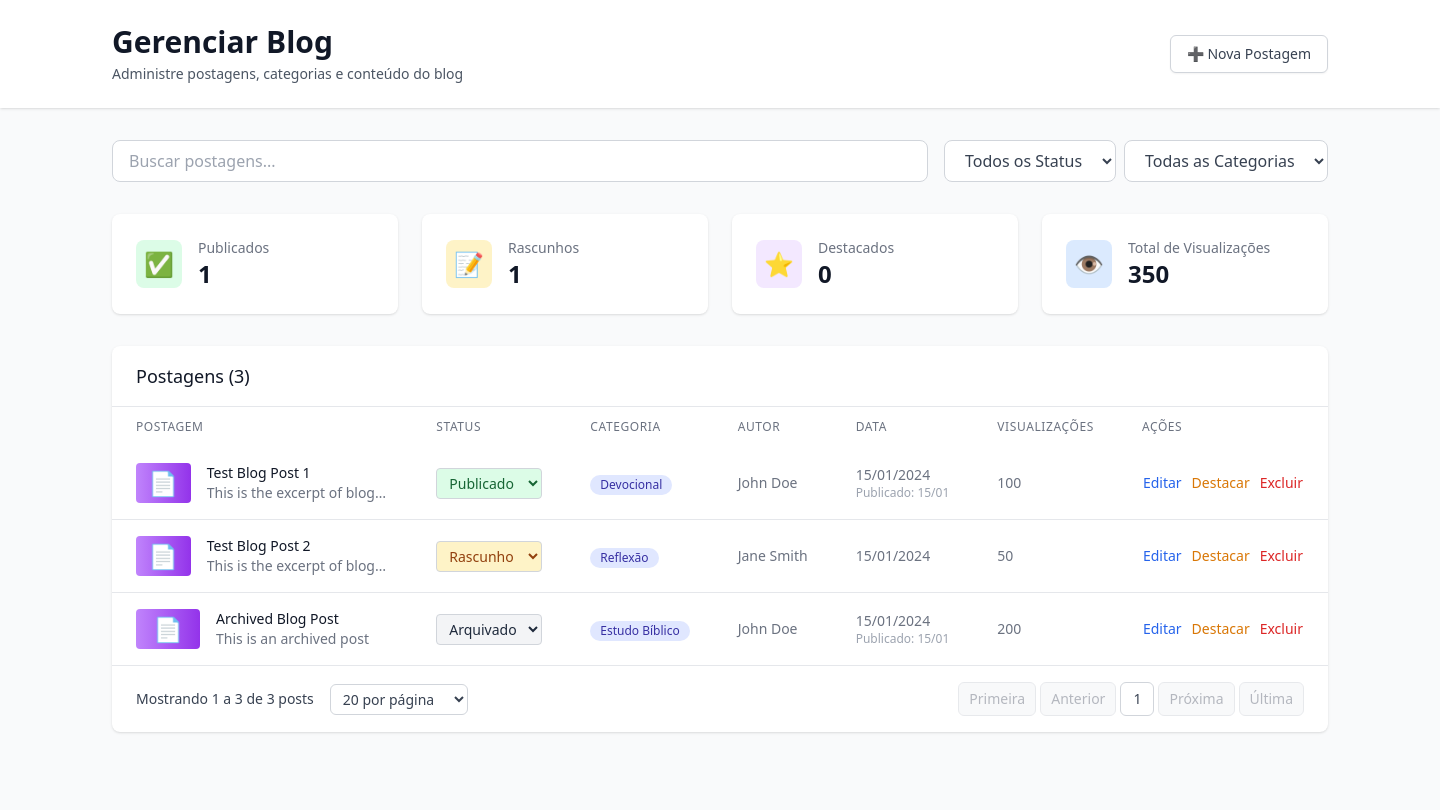
it: AdminBlogManagementPage › Filtering › should filter posts by search term
The image size is (1440, 810).
Expected: the text "Test Blog Post 1" is shown, top-left (207, 463), bottom-right (311, 483)
Type "Archived" into the field with placeholder "Buscar postagens...".
click(520, 161); type("Archived")  # box top-left (112, 140), bottom-right (928, 182)
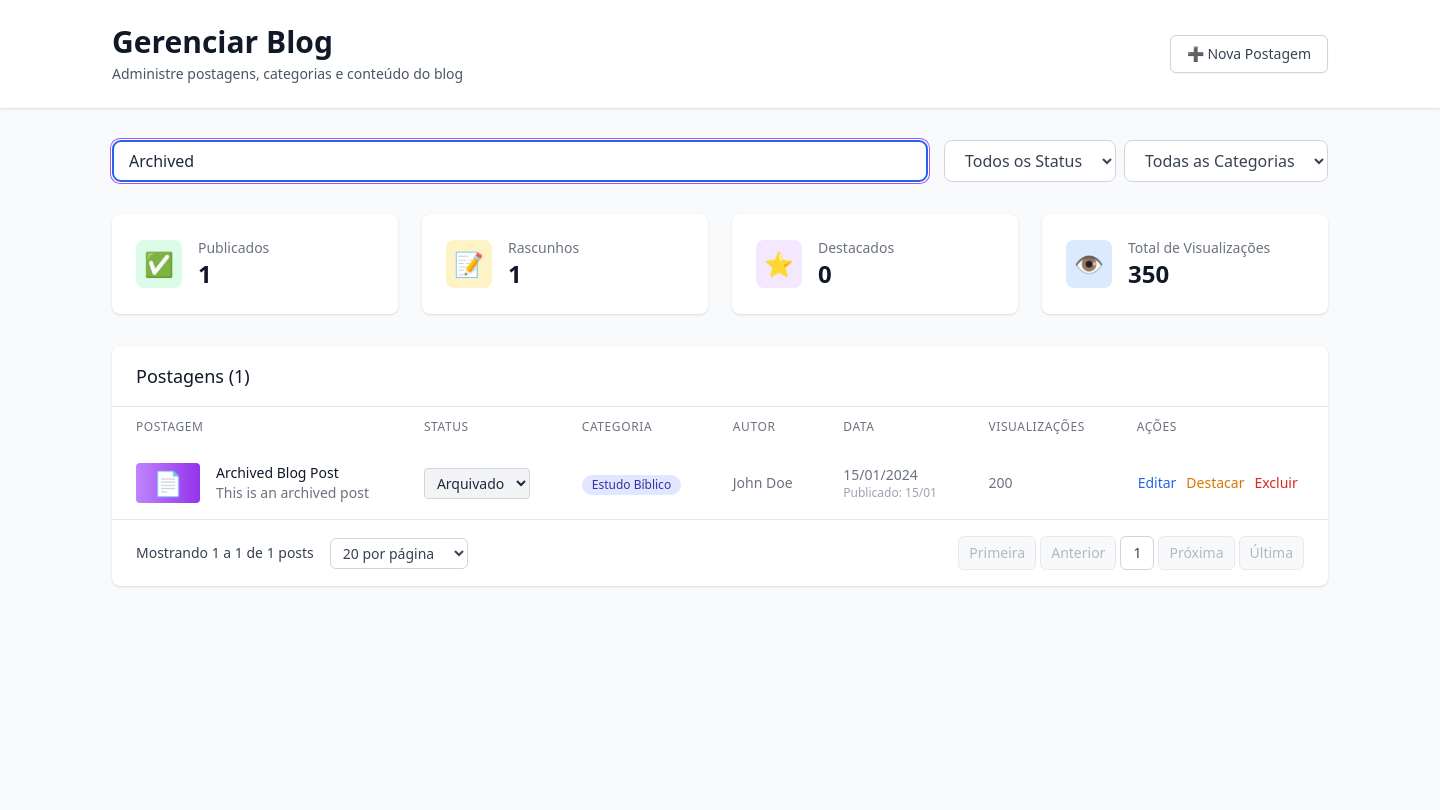
Expected: the text "Archived Blog Post" is shown, top-left (216, 463), bottom-right (339, 483)
Expected: the text "Test Blog Post 1" is gone
